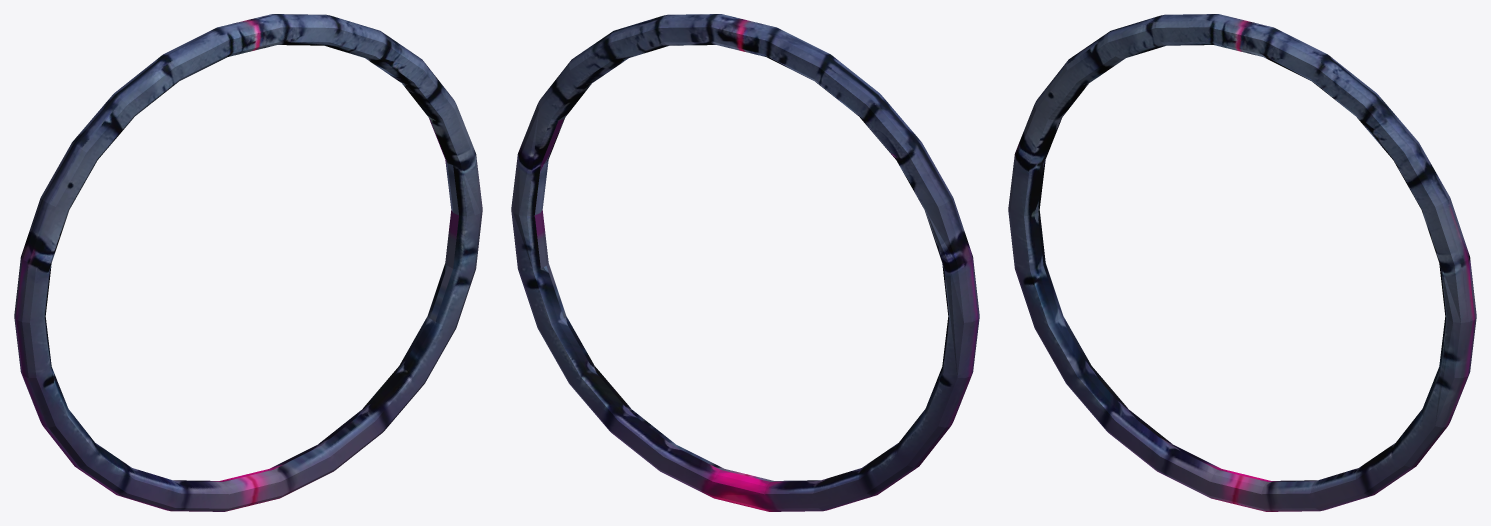
The model's file is well-of-urd-ring-texture-wrap-2026-05-14T23-34-00-441Z.medium.glb.
3 views of the same model, side by side, from view 1: azimuth 30°, elevation 25°; view 2: azimuth 150°, elevation 25°; view 3: azimuth 330°, elevation 25° (orthographic).
Visible parts, largest first — view 1: GLTF; view 2: GLTF; view 3: GLTF.
Part boxes in pixels (x1,y1,x2,y2): GLTF: (14,14,482,511); GLTF: (511,14,979,511); GLTF: (1008,14,1476,511).
Bounding box in the file's own units: 23.41 × 23.24 × 1.38.
Materials: 1 (1 with a texture image).
